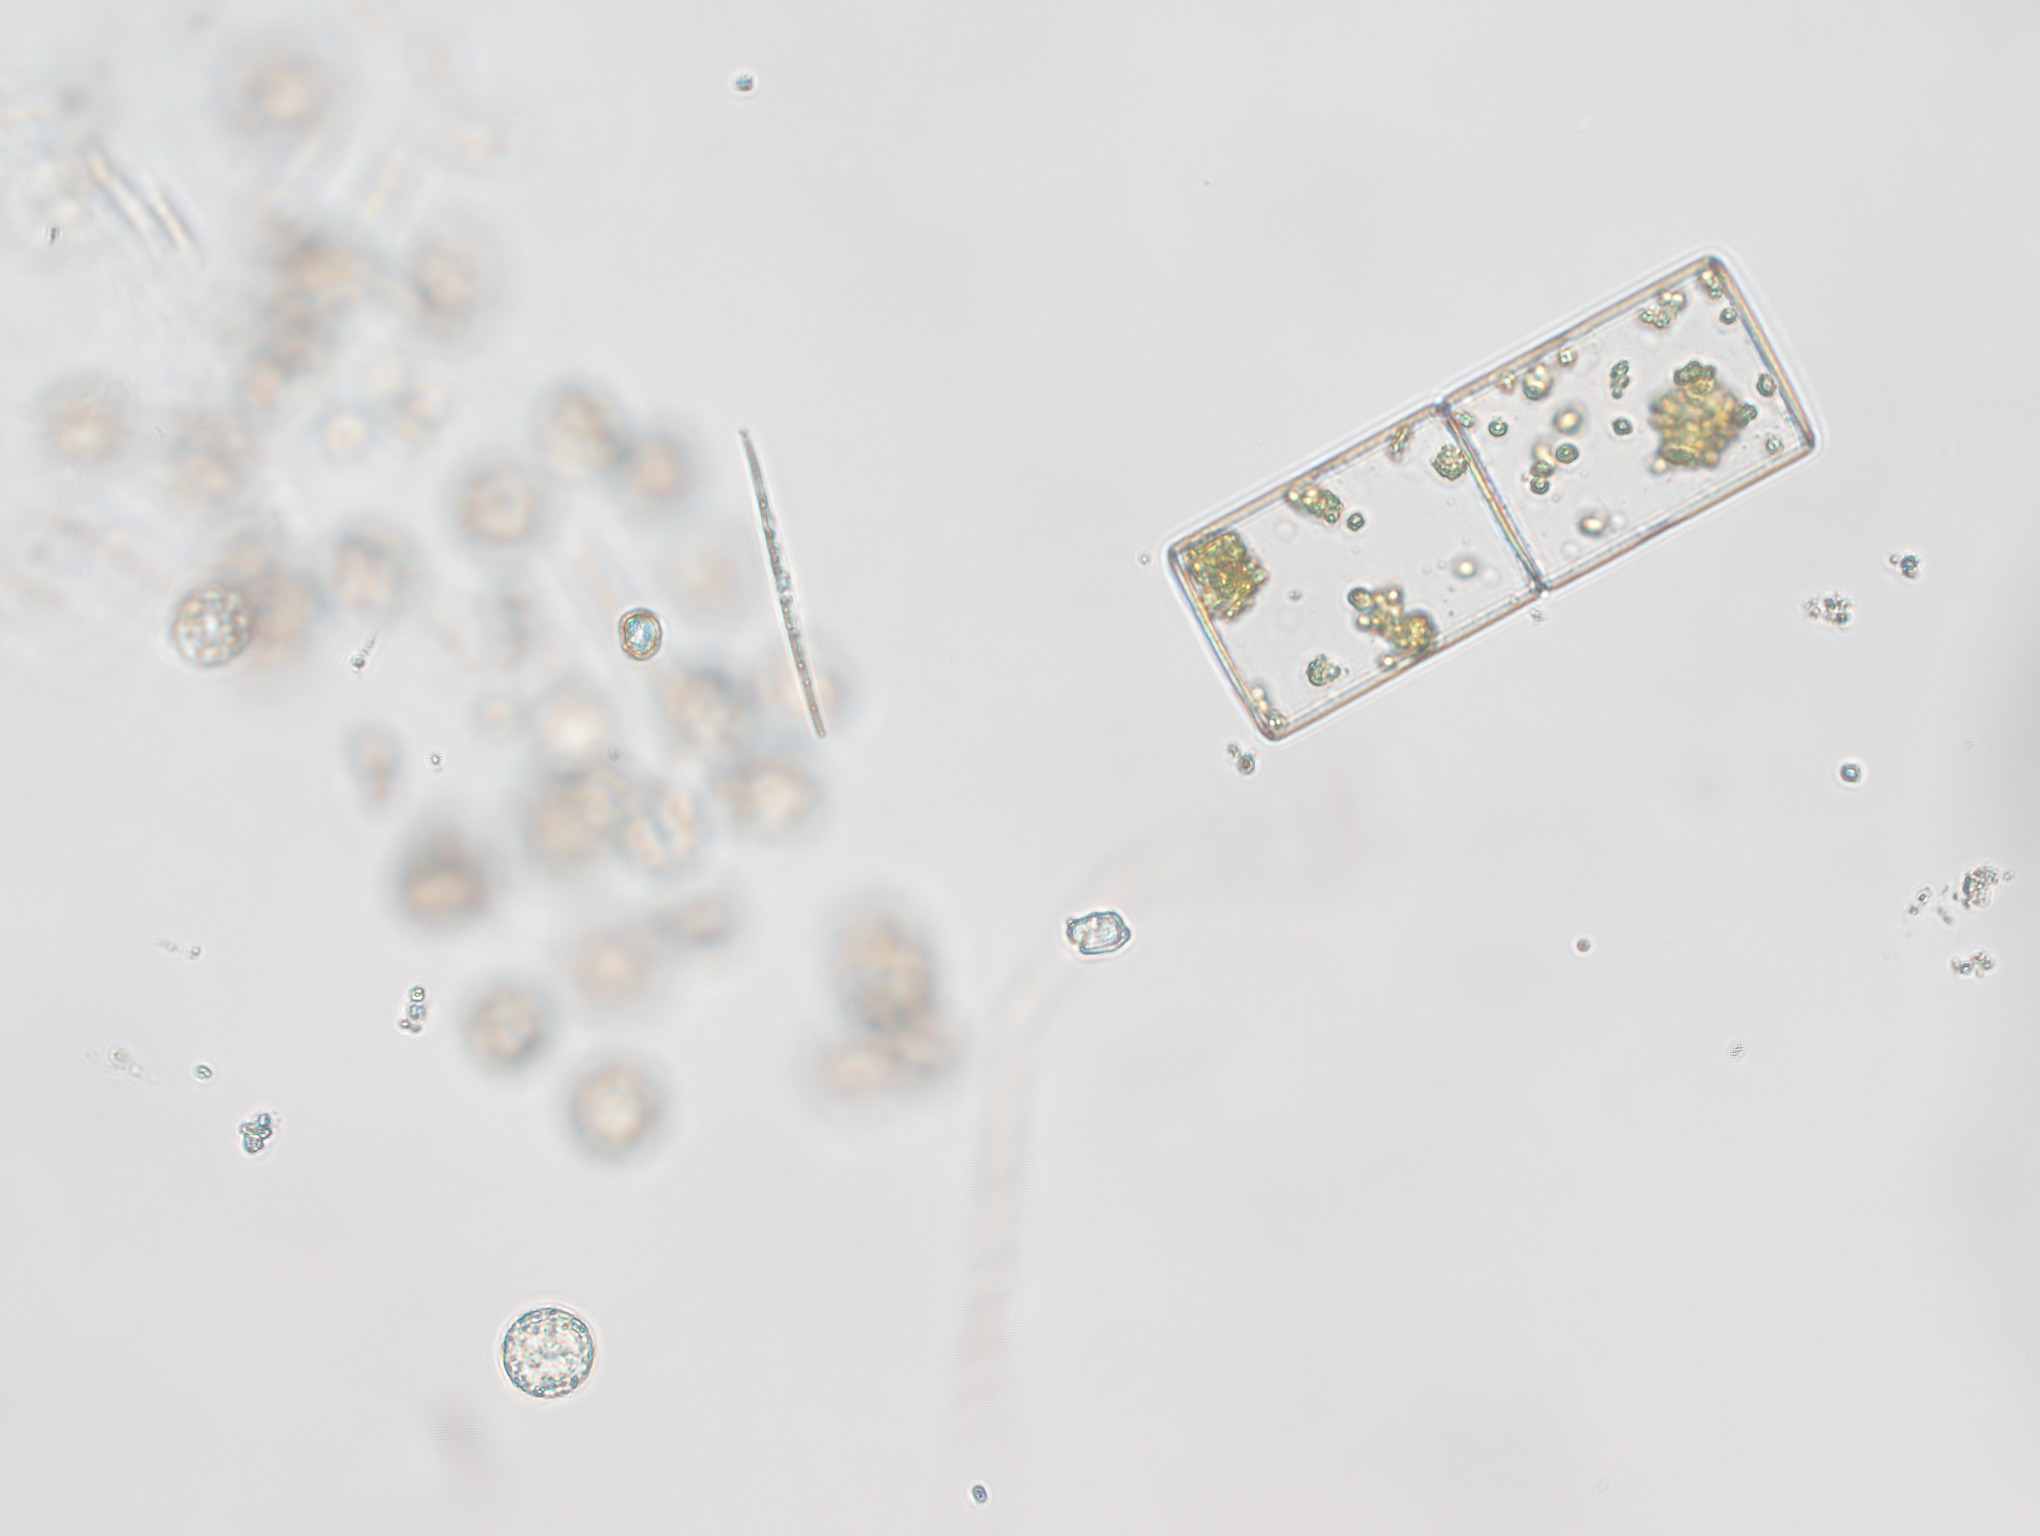guinardia flaccida: (1098, 232, 1826, 755)
pleurosigma pelagicum: (734, 428, 847, 758)
